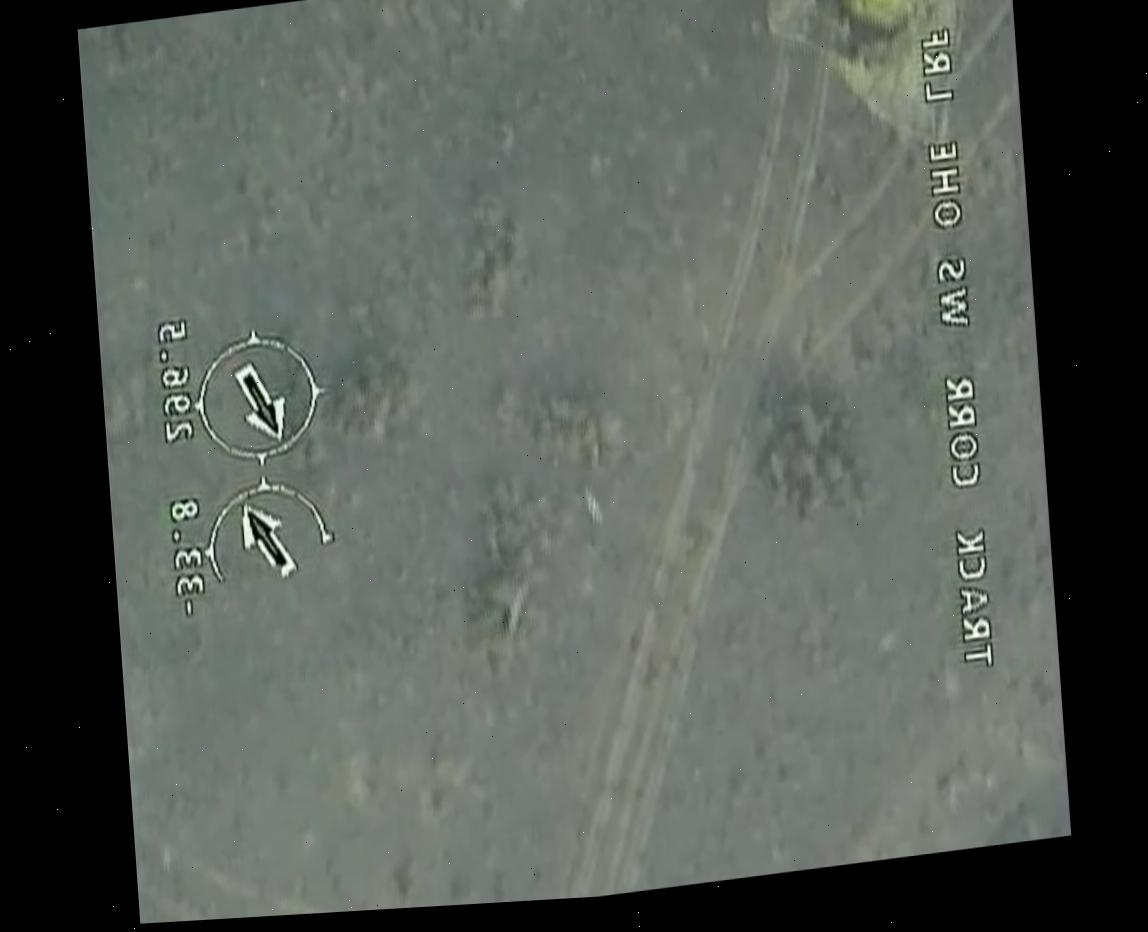armored_car: (818, 0, 993, 58)
